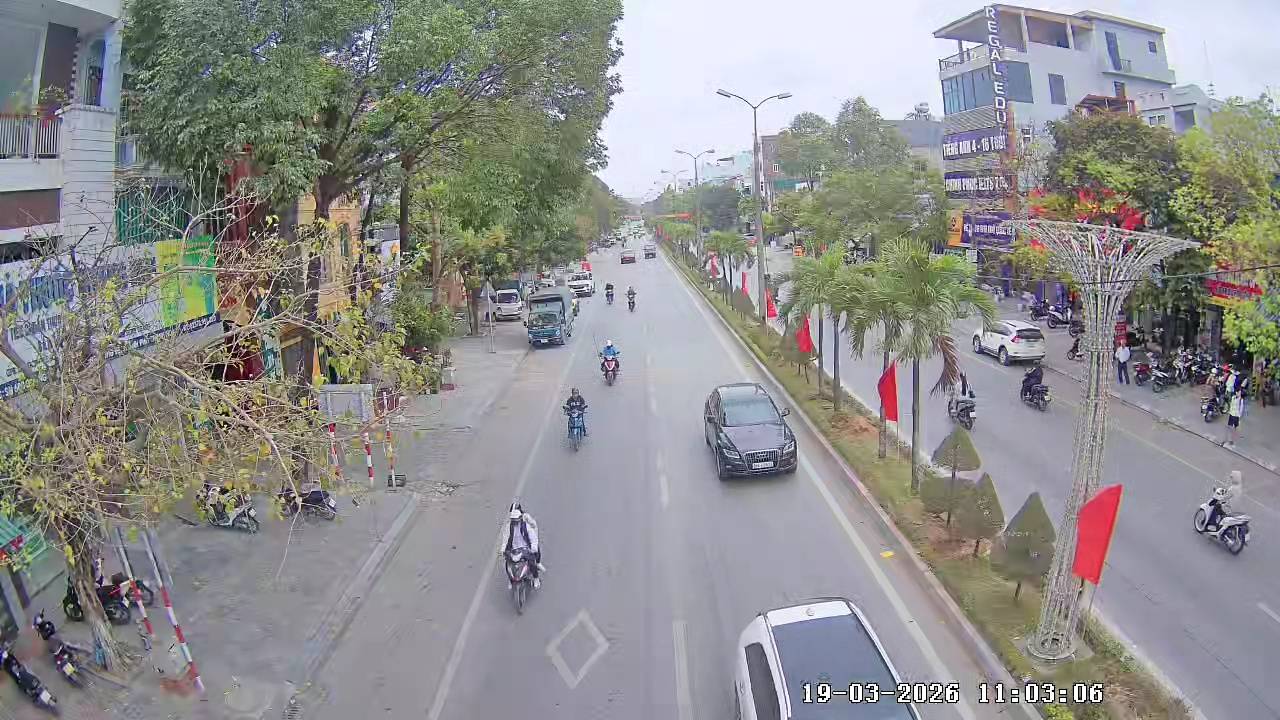car: (728, 595, 923, 719), (702, 381, 798, 481), (978, 325, 1049, 367), (571, 272, 594, 299), (619, 241, 637, 264)
motorbike: (496, 500, 548, 614), (1193, 470, 1255, 556), (560, 385, 590, 453), (290, 485, 342, 524), (1020, 362, 1053, 413), (948, 378, 979, 431), (598, 339, 621, 386), (624, 283, 638, 310), (601, 281, 617, 304)
truck: (523, 294, 571, 348)
